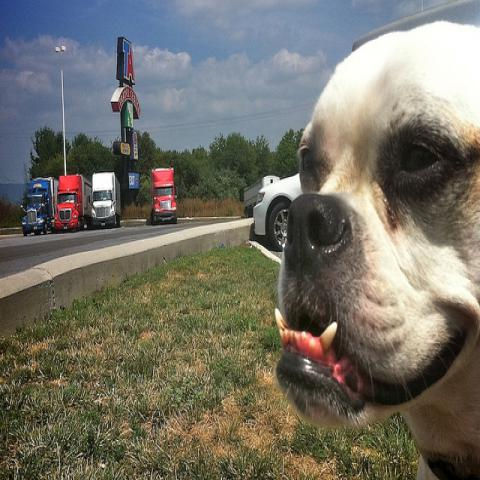car: (253, 174, 302, 251)
truck: (20, 176, 58, 238), (54, 175, 92, 233), (91, 172, 122, 229), (150, 166, 178, 225)
